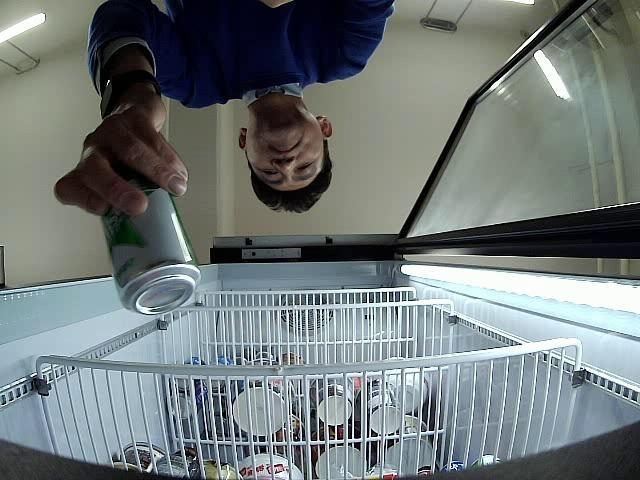12_chilsungCider: (100, 185, 202, 315)
